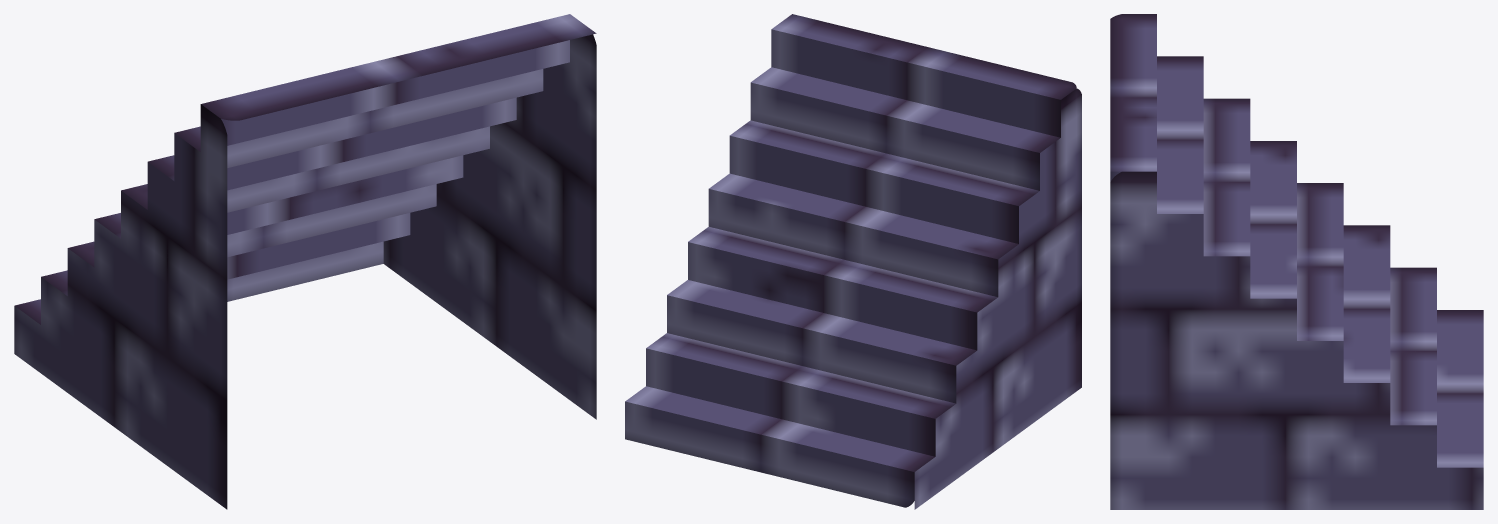
The model's file is stairs.fbx.
3 views of the same model, side by side, from view 1: azimuth 30°, elevation 25°; view 2: azimuth 150°, elevation 25°; view 3: azimuth 270°, elevation 25° (orthographic). The views are drawn at different scales.
Visible parts, largest first — view 1: Cube.022; view 2: Cube.022; view 3: Cube.022.
Boxes of the visible parts, x1,y1,x2,y2 form: Cube.022: (14, 14, 596, 509); Cube.022: (625, 14, 1081, 509); Cube.022: (1110, 14, 1483, 509).
Size of the model in its own units: 200 by 200 by 200.
